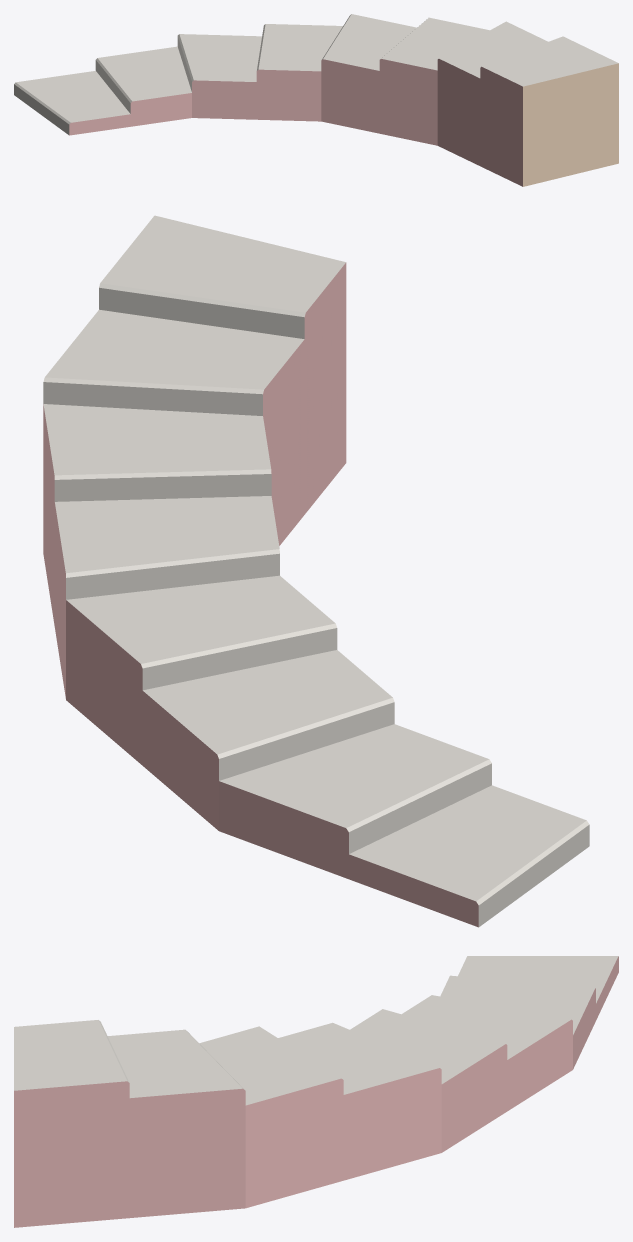
File: Tiered_Walkway_Steps_Curve_Short_4x4.glb
The picture shows the model from 3 angles, top to bottom: view 1: azimuth 30°, elevation 25°; view 2: azimuth 150°, elevation 25°; view 3: azimuth 270°, elevation 25°; orthographic projection. The views are drawn at different scales.
Parts seen in each view (by area): view 1: Tiered_Walkway_Steps_Curve_Short_4x4; view 2: Tiered_Walkway_Steps_Curve_Short_4x4; view 3: Tiered_Walkway_Steps_Curve_Short_4x4.
Part boxes in pixels (x1,y1,x2,y2): Tiered_Walkway_Steps_Curve_Short_4x4: (14, 14, 618, 186); Tiered_Walkway_Steps_Curve_Short_4x4: (43, 215, 589, 927); Tiered_Walkway_Steps_Curve_Short_4x4: (14, 956, 618, 1227).
Bounding box in the file's own units: 400 × 100 × 400.
